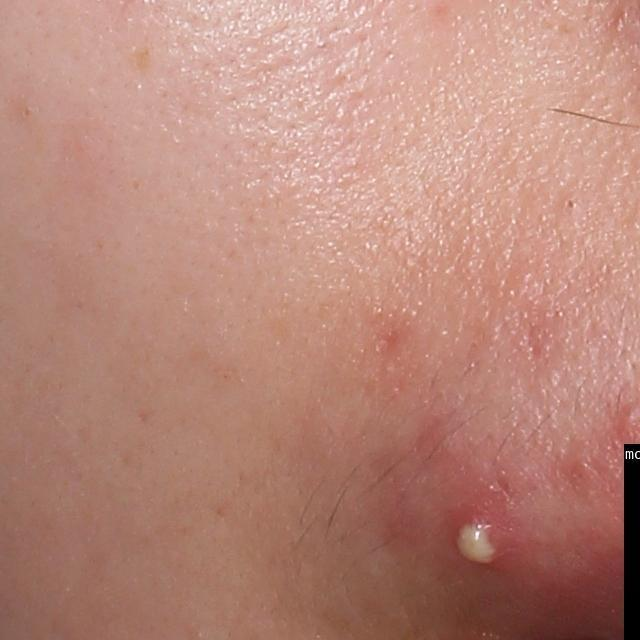comedo: (561, 197, 577, 213), (20, 106, 36, 119)
pustule: (439, 494, 536, 588)
